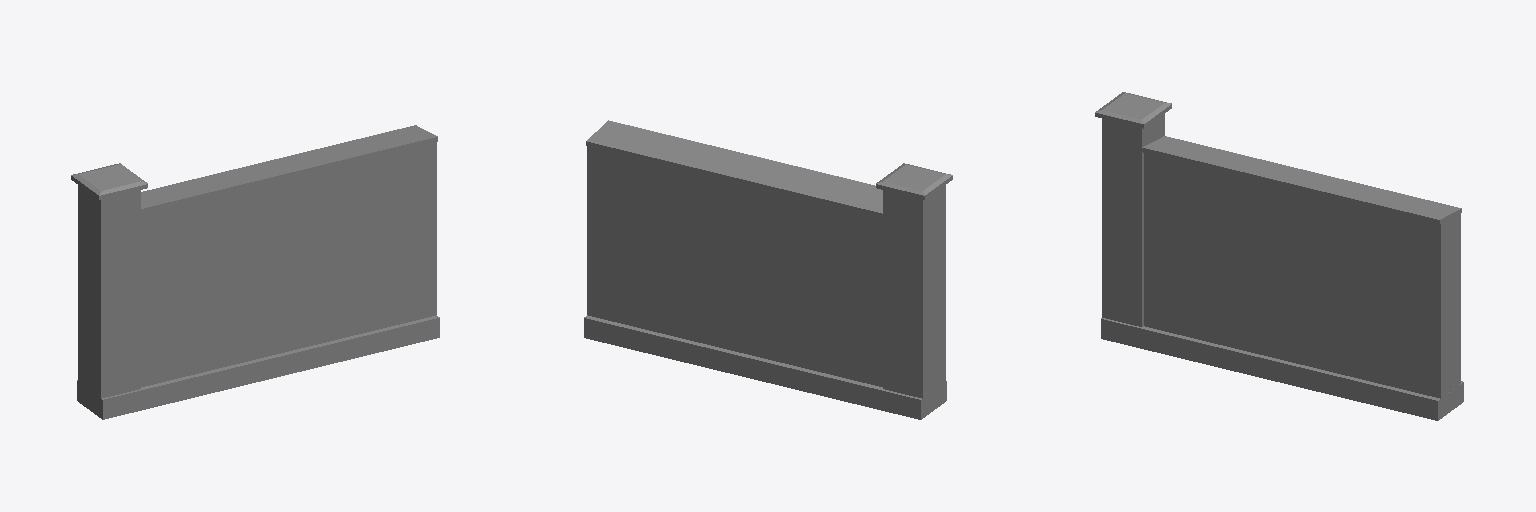
Rendered from wall_back.obj.
3 renders of one model, left to right at view 1: azimuth 30°, elevation 25°; view 2: azimuth 150°, elevation 25°; view 3: azimuth 330°, elevation 25°, orthographic.
Visible parts, largest first — view 1: zed_vzadu_10061_Wall_SG_V2_Iterations-2; view 2: zed_vzadu_10061_Wall_SG_V2_Iterations-2; view 3: zed_vzadu_10061_Wall_SG_V2_Iterations-2.
Boxes of the visible parts, <box> form: zed_vzadu_10061_Wall_SG_V2_Iterations-2: <box>71,125,439,419</box>; zed_vzadu_10061_Wall_SG_V2_Iterations-2: <box>584,120,952,419</box>; zed_vzadu_10061_Wall_SG_V2_Iterations-2: <box>1095,92,1463,420</box>.
Bounding box in the file's own units: 4.16 × 2.65 × 0.5991.